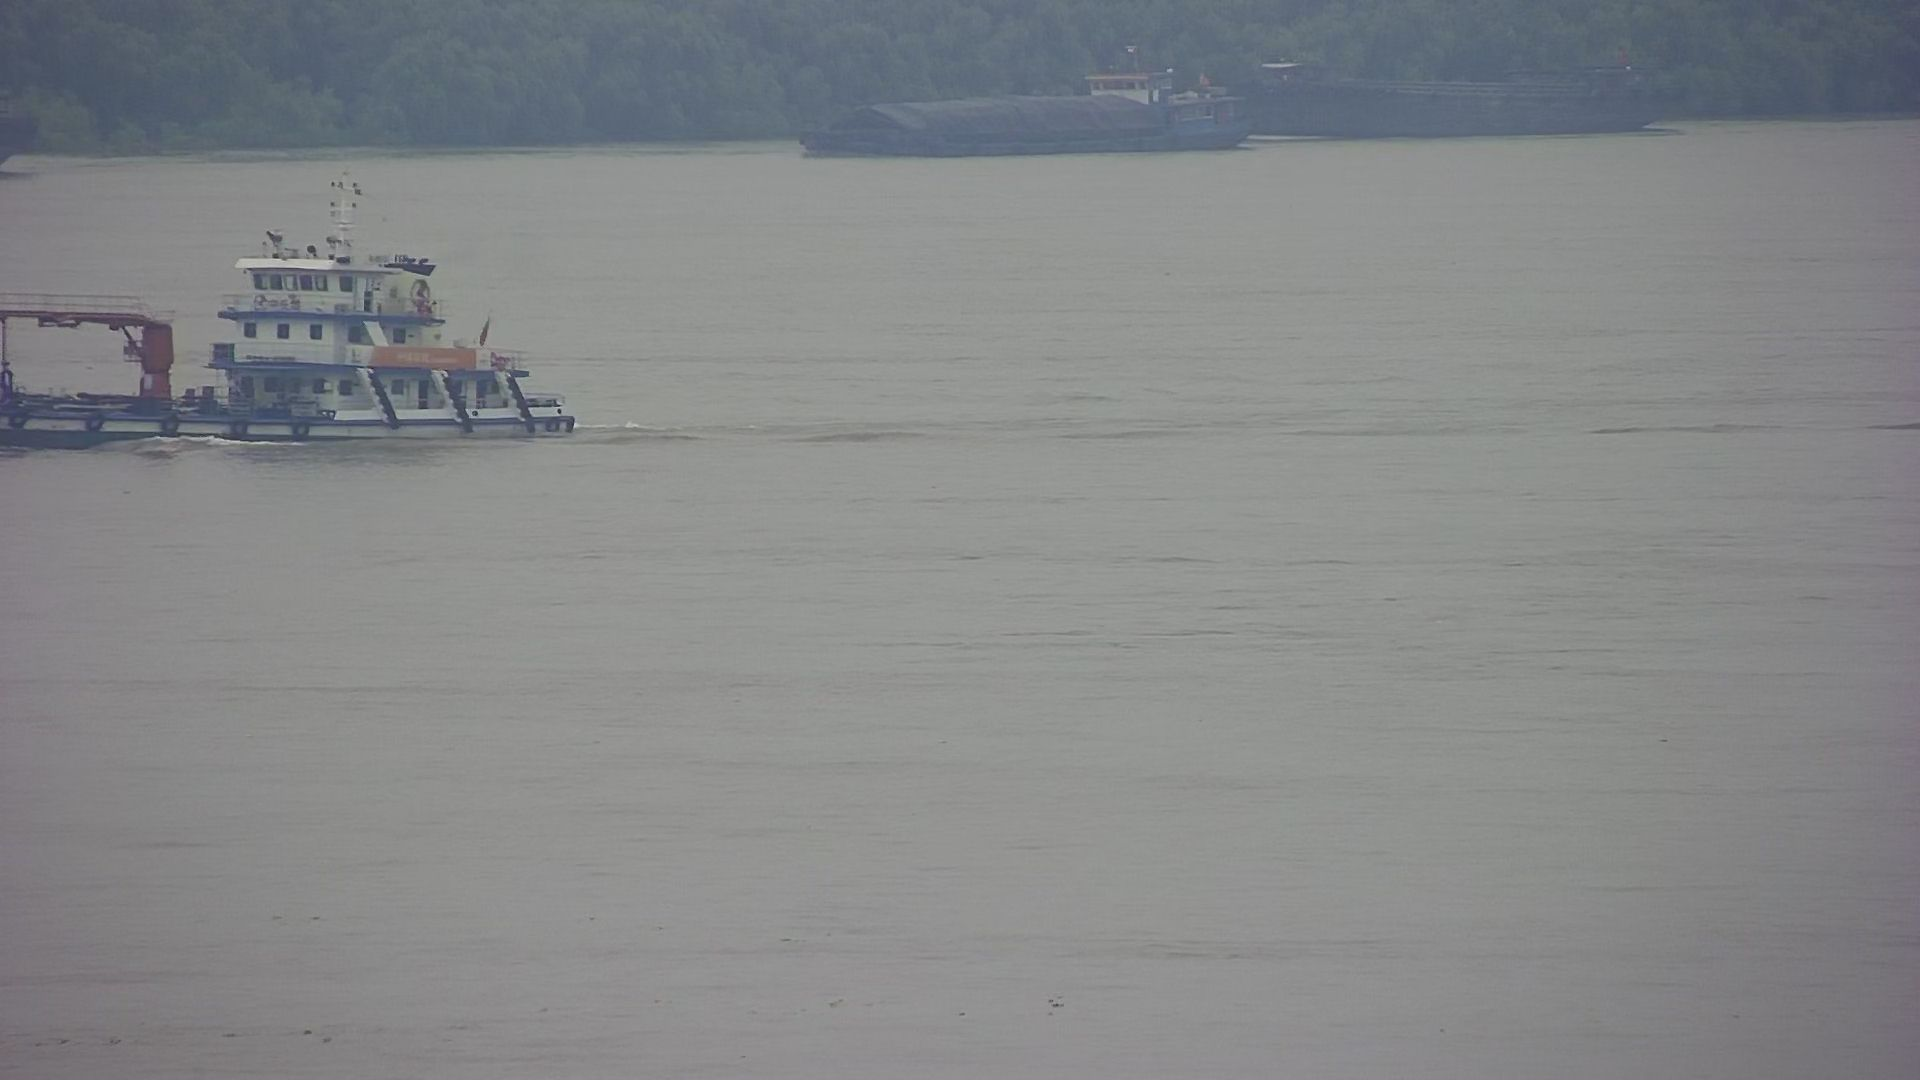ship: (1, 202, 607, 452), (777, 15, 1280, 170), (1261, 26, 1716, 152)
